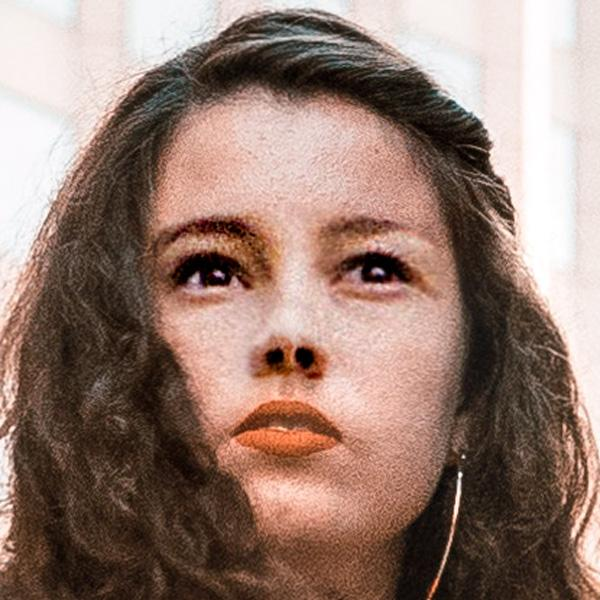Eyes: (324, 242, 429, 304), (162, 238, 258, 304)
